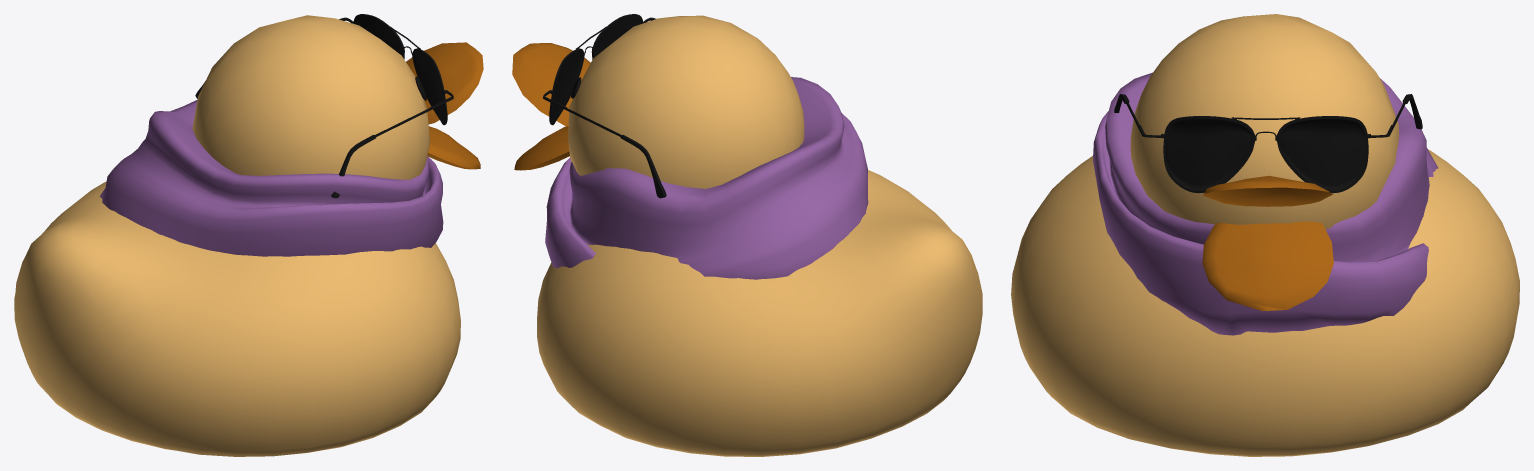
File: yellowduck3.fbx
The picture shows the model from 3 angles, left to right: view 1: azimuth 30°, elevation 25°; view 2: azimuth 150°, elevation 25°; view 3: azimuth 270°, elevation 25°; orthographic projection. The views are drawn at different scales.
Parts seen in each view (by area): view 1: BubblePopper_, Lenny Corm, Aviators; view 2: BubblePopper_, Lenny Corm, Aviators; view 3: BubblePopper_, Lenny Corm, Aviators.
Boxes of the visible parts, box(x1,y1,x2,y2) form: BubblePopper_: box(14, 15, 483, 456); Lenny Corm: box(99, 100, 443, 256); Aviators: box(195, 14, 453, 198); BubblePopper_: box(512, 15, 982, 456); Lenny Corm: box(545, 77, 868, 279); Aviators: box(543, 14, 666, 198); BubblePopper_: box(1011, 14, 1519, 456); Lenny Corm: box(1093, 72, 1438, 335); Aviators: box(1114, 94, 1422, 193).
Size of the model in its own units: 338 by 245 by 298.
